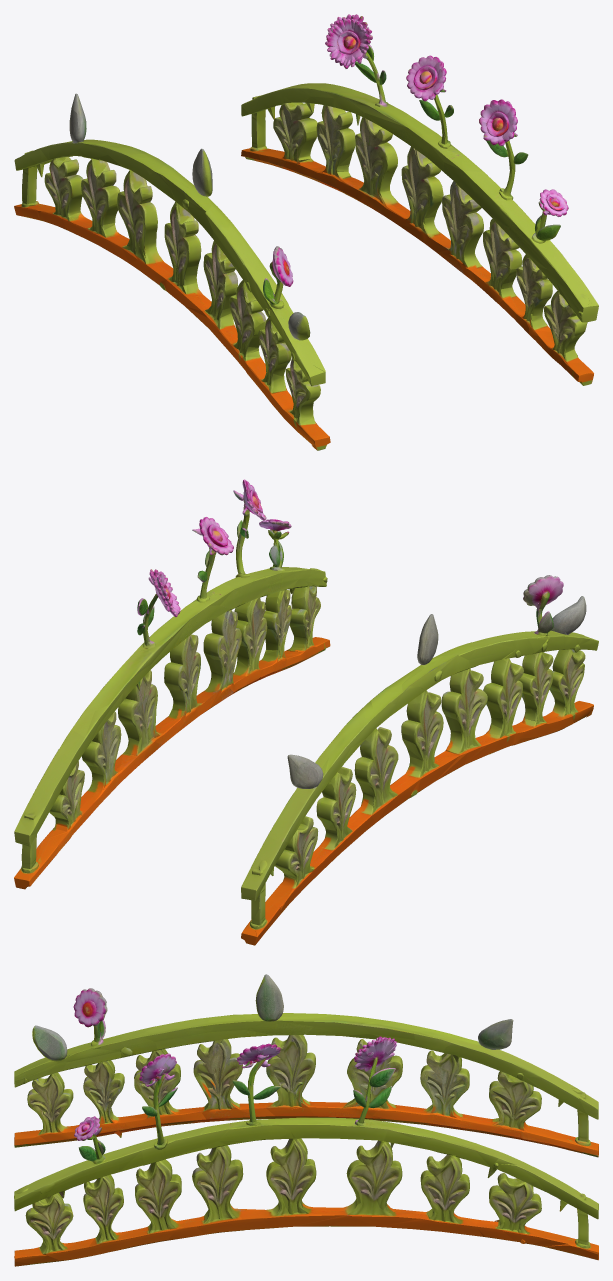
The model's file is meshy-1795547002495.glb.
3 renders of one model, top to bottom at view 1: azimuth 30°, elevation 25°; view 2: azimuth 150°, elevation 25°; view 3: azimuth 270°, elevation 25°, orthographic. The views are drawn at different scales.
Bounding box in the file's own units: 1.03 × 0.7712 × 1.9.
1 material, 1 textured.
